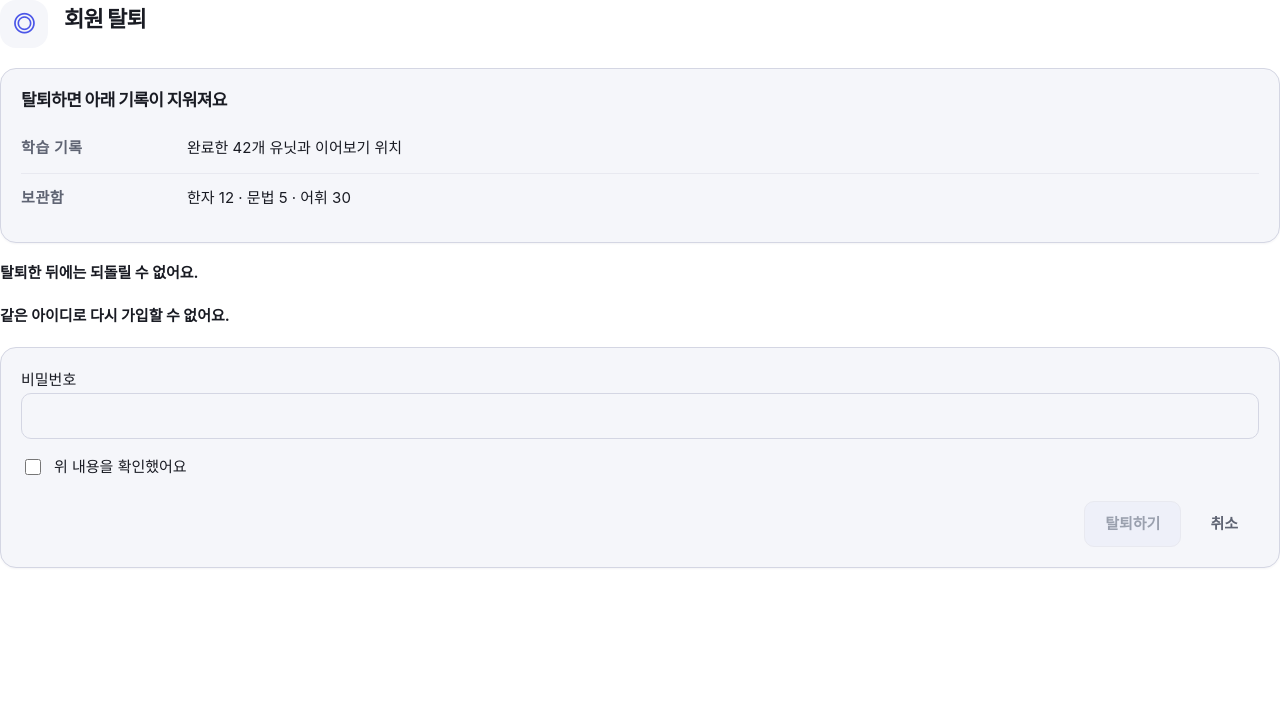
지울 것이 없을 때의 확인 모달 (B-L2) › 둘 다 있으면 지금 문구 그대로다 (회귀)
The image size is (1280, 720).
In the password field labelled "비밀번호": (640, 416) [21,393,1259,439], type "1234"
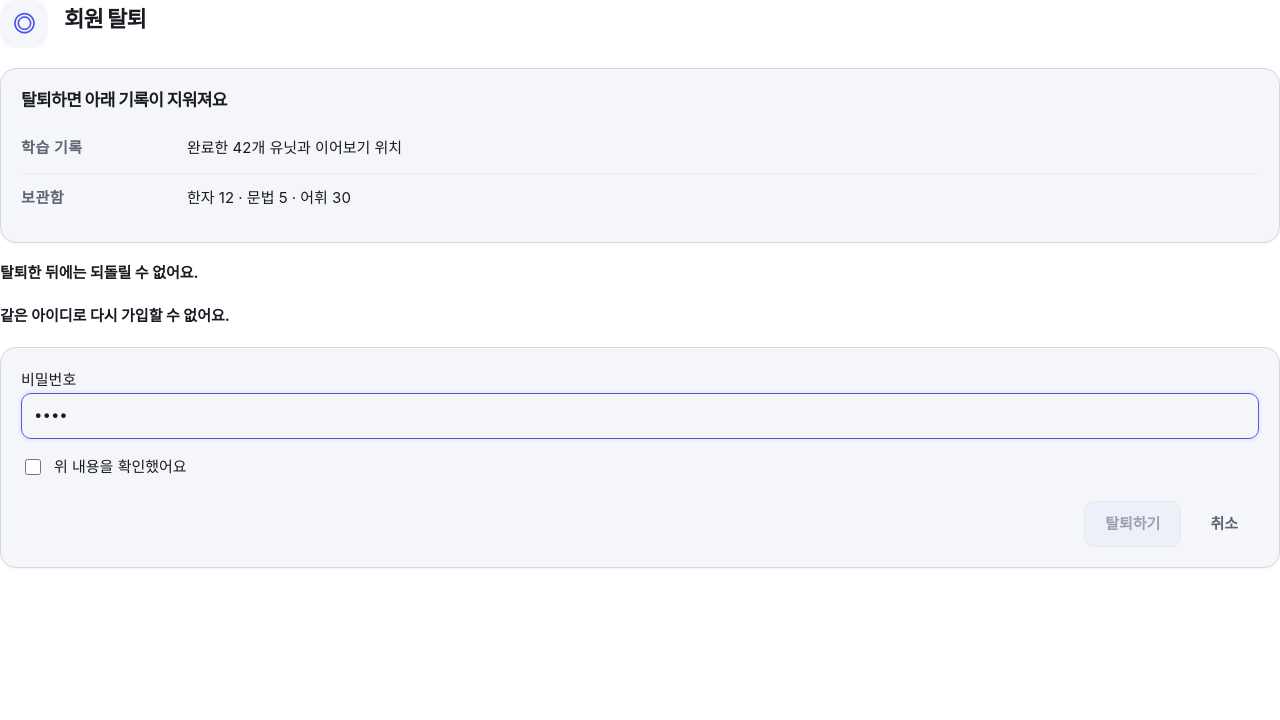
Click the checkbox labelled "위 내용을 확인했어요": (33, 467) [25,459,41,475]
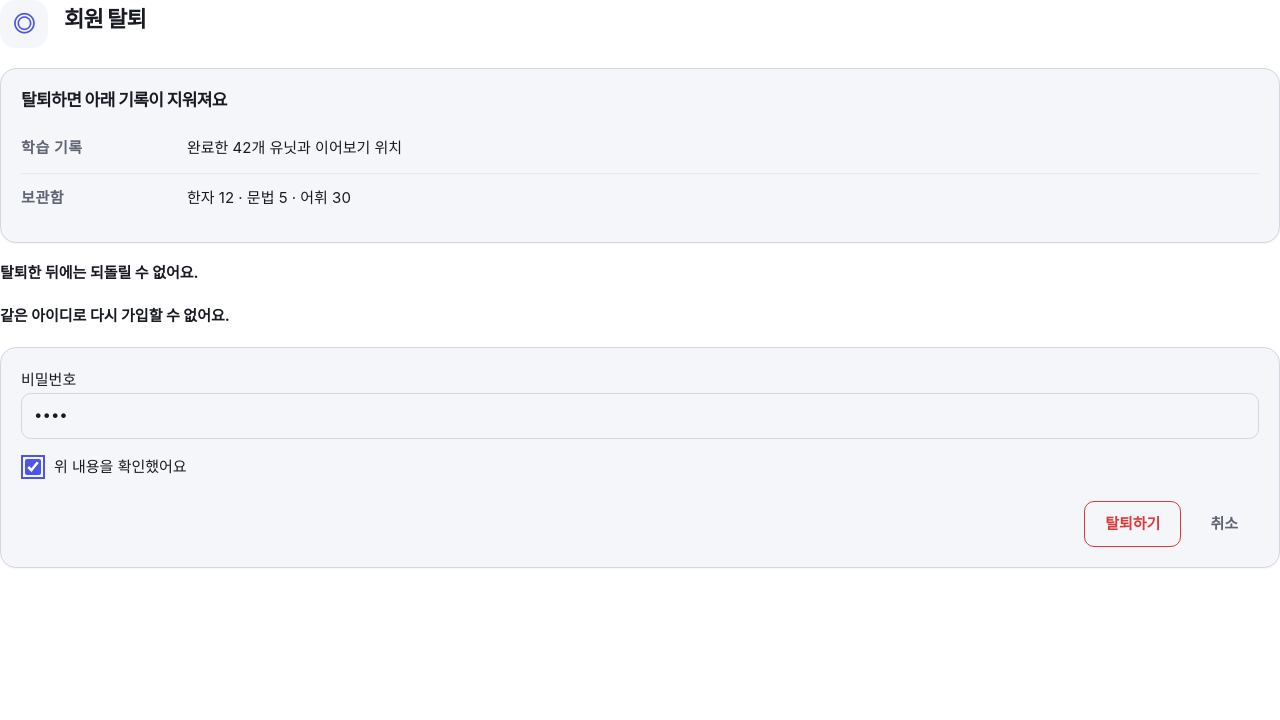
Click the button "탈퇴하기": (1133, 524) [1084,501,1181,547]
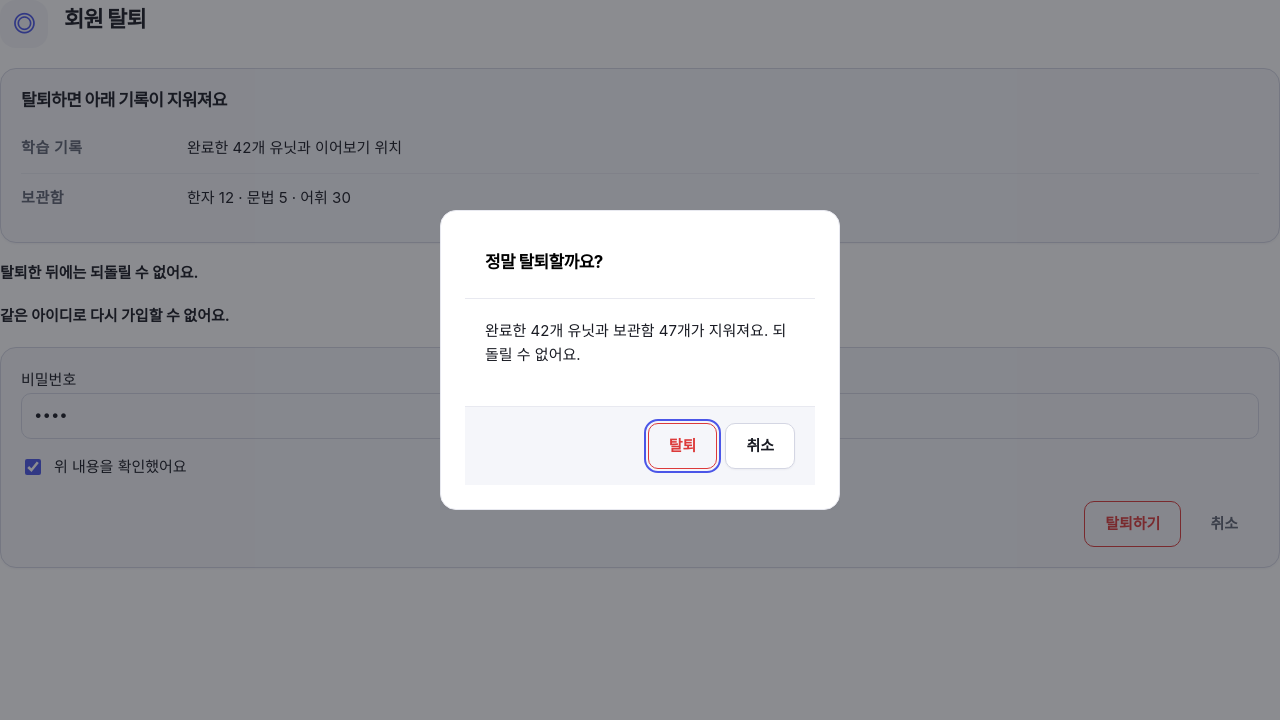
Expected: the heading "정말 탈퇴할까요?" is shown, [485,251,603,274]
Expected: the text "완료한 42개 유닛과 보관함 47개가 지워져요. 되돌릴 수 없어요." is shown, [485,319,795,368]
